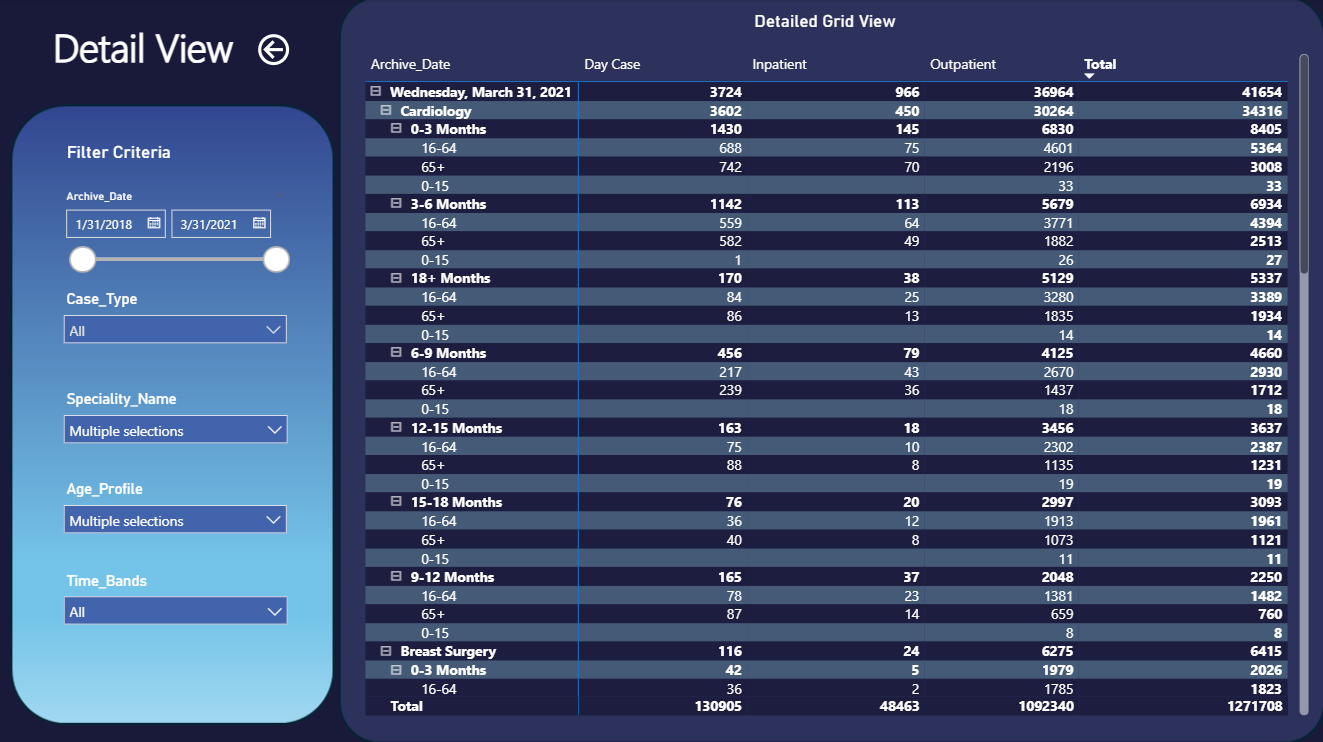

The page's visual inventory and layout, read from the dashboard file:
{"tool":"powerbi","page":{"name":"Detail","canvas":[1280,720],"ordinal":1},"visuals":[{"type":"slicer","fields":{"Values":["All_Data.Archive_Date"]},"box":[53.1,178.6,236.5,96.5],"z":0},{"type":"slicer","fields":{"Values":["All_Data.Case_Type"]},"box":[53.1,276.3,235.3,96.5],"z":1000},{"type":"slicer","fields":{"Values":["All_Data.Speciality_Name"]},"box":[53.1,372.8,236.5,86.9],"z":2000},{"type":"textbox","box":[48.3,15.7,197.9,63.9],"z":3000},{"type":"slicer","fields":{"Values":["All_Data.Age_Profile"]},"box":[53.1,459.7,235.3,88.1],"z":4000},{"type":"slicer","fields":{"Values":["All_Data.Time_Bands"]},"box":[53.1,547.7,236.5,80.8],"z":5000},{"type":"pivotTable","fields":{"Rows":["All_Data.Archive_Date","All_Data.Speciality_Name","All_Data.Time_Bands","All_Data.Age_Profile"],"Values":["Sum(All_Data.Total)"],"Columns":["All_Data.Case_Type"]},"box":[349.9,48.3,920.5,647.9],"z":6000},{"type":"textbox","box":[725.1,6,171.3,42.2],"z":7000},{"type":"textbox","box":[61.5,132.7,131.5,32.6],"z":8000},{"type":"actionButton","box":[246.1,29,43.4,39.8],"z":9000}]}

Visuals, with their boxes in screenshot pixels (x1, y1, x2, y2), scaled from the page's 1280x720 canvas onto the 1323x742 screenshot:
slicer - All_Data.Archive_Date: rect(55, 184, 299, 284)
slicer - All_Data.Case_Type: rect(55, 285, 298, 384)
slicer - All_Data.Speciality_Name: rect(55, 384, 299, 474)
textbox: rect(50, 16, 254, 82)
slicer - All_Data.Age_Profile: rect(55, 474, 298, 565)
slicer - All_Data.Time_Bands: rect(55, 564, 299, 648)
pivotTable - All_Data.Archive_Date x All_Data.Speciality_Name: rect(362, 50, 1313, 717)
textbox: rect(749, 6, 927, 50)
textbox: rect(64, 137, 199, 170)
actionButton: rect(254, 30, 299, 71)
